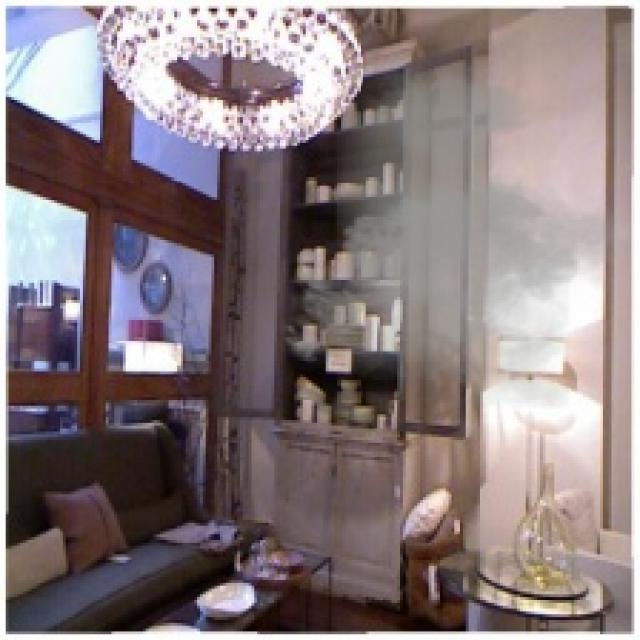smoke: (272, 60, 634, 409)
